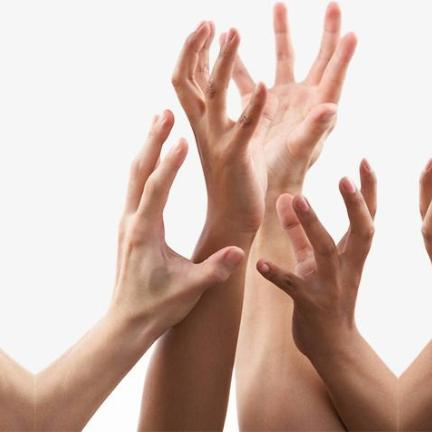Nail: (225, 249, 241, 265), (295, 198, 308, 211), (343, 178, 354, 193), (224, 29, 234, 43), (171, 138, 180, 151), (253, 83, 262, 95), (322, 113, 335, 121), (157, 111, 164, 124), (258, 263, 268, 272), (364, 159, 371, 170), (423, 159, 430, 170)
